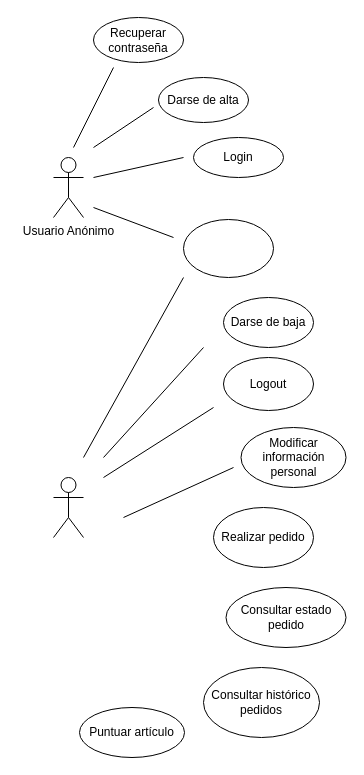
Image size: 364x775. Some labels were removed from this diagram. Each missing label, with the centre of its shape:
"Buscar producto" belongs at pixel 228 248.
"Usuario Registrado" belongs at pixel 68 507.
